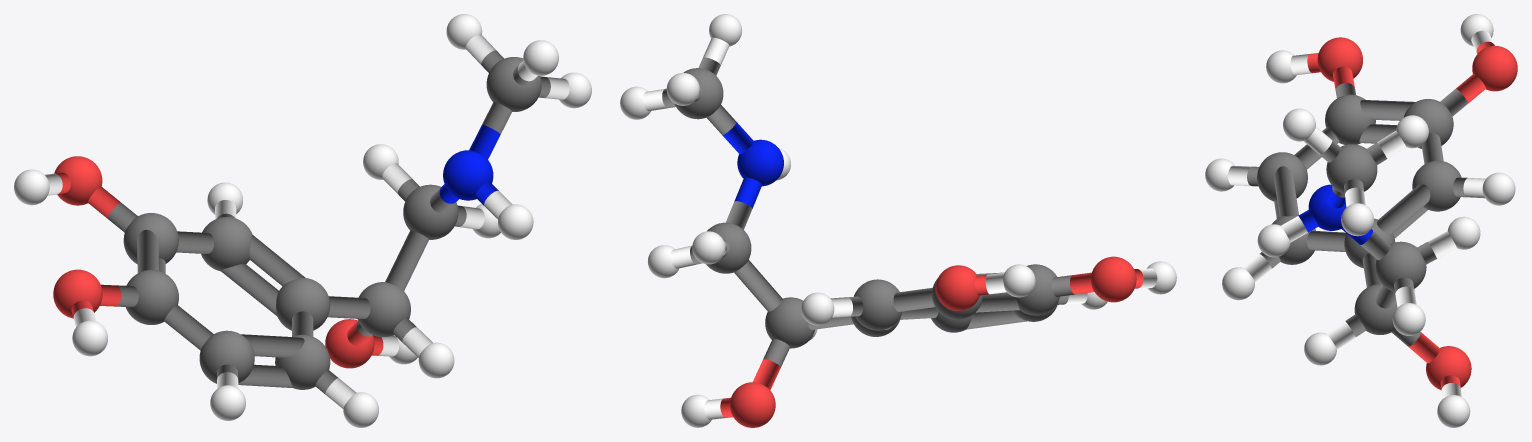
Rendered from adrenaline.glb.
3 views of the same model, side by side, from view 1: azimuth 30°, elevation 25°; view 2: azimuth 150°, elevation 25°; view 3: azimuth 270°, elevation 25° (orthographic). The views are drawn at different scales.
Visible parts, largest first — view 1: adrenaline; view 2: adrenaline; view 3: adrenaline.
Boxes of the visible parts, x1,y1,x2,y2 form: adrenaline: (14,14,591,427); adrenaline: (620,14,1176,427); adrenaline: (1205,14,1517,427).
Size of the model in its own units: 9.07 by 5.76 by 4.79.
